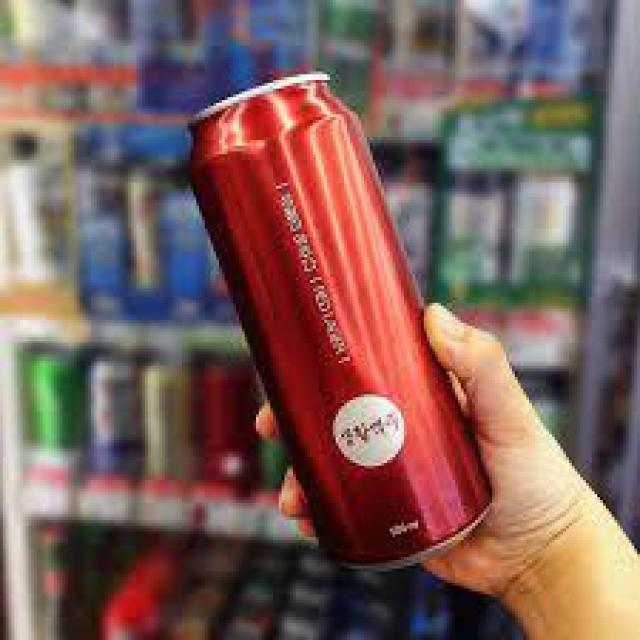beer-can: (188, 72, 510, 577)
